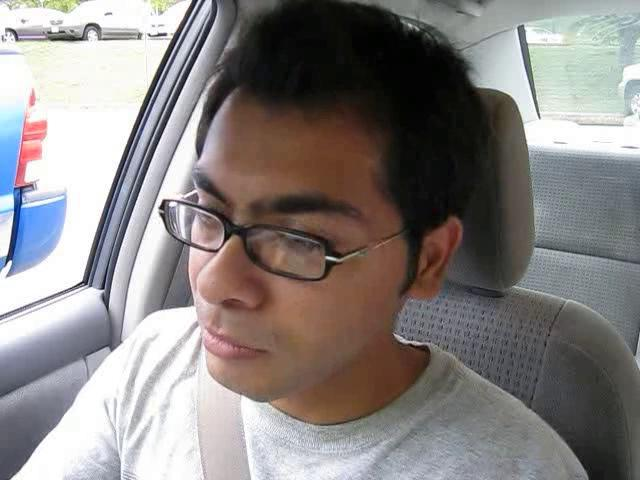close_eyeL: (165, 190, 238, 254)
close_eyeR: (253, 213, 349, 279)
no_yawn: (175, 310, 286, 374)
